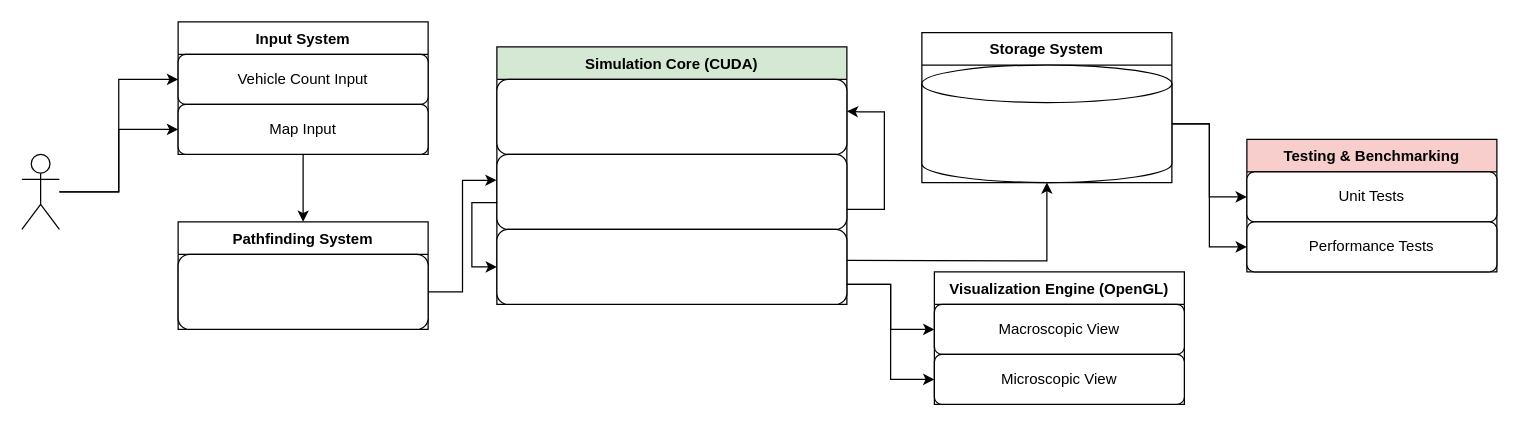
Image size: 1519x426. Some labels were removed from this diagram. Each missing label, with the centre of its shape:
"Mathematical Models" goes at (x=671, y=116).
"Path Computation" goes at (x=302, y=291).
"Simulation Data Store" goes at (x=1046, y=123).
"Time-step Simulation" goes at (x=671, y=266).
"User" goes at (x=40, y=191).
"Vehicle Decision Engine" goes at (x=671, y=191).
